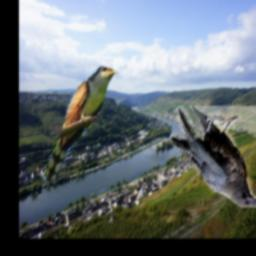Crow: (171, 107, 256, 208)
Cuckoo: (44, 66, 121, 183)
